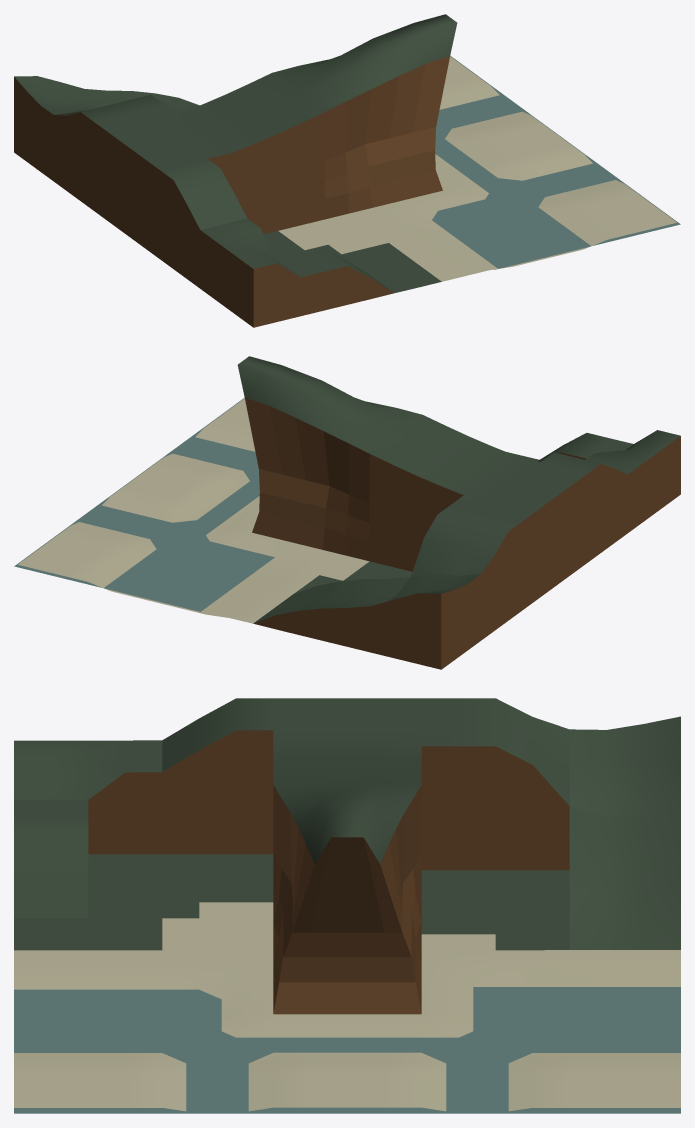
File: CoastalMap_Test.glb
3 renders of one model, top to bottom at view 1: azimuth 30°, elevation 25°; view 2: azimuth 150°, elevation 25°; view 3: azimuth 270°, elevation 25°, orthographic. The views are drawn at different scales.
Parts seen in each view (by area): view 1: pPlane2, pPlane3; view 2: pPlane2, pPlane3; view 3: pPlane2, pPlane3.
Part boxes in pixels (box(x1,y1,x2,y2)): pPlane2: box(14, 14, 676, 327); pPlane3: box(432, 56, 680, 269); pPlane2: box(18, 356, 680, 669); pPlane3: box(14, 398, 274, 611); pPlane2: box(14, 698, 680, 1111); pPlane3: box(14, 987, 680, 1113).
Size of the model in its own units: 4.6 by 1.5 by 4.46.
